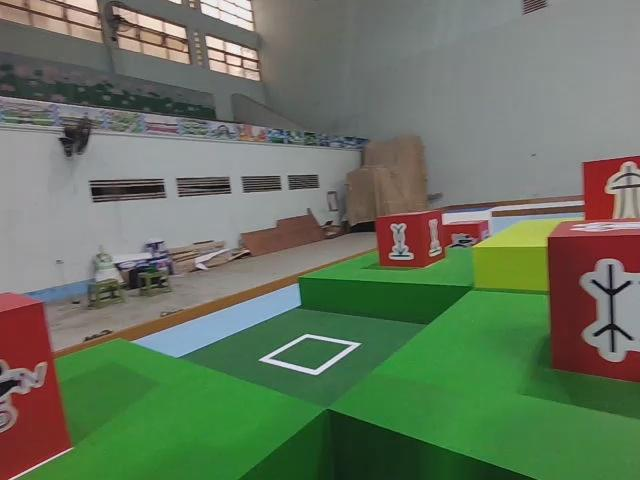R1: (439, 217, 491, 257)
R2 Fake: (581, 151, 640, 235)
R2 Real: (545, 217, 640, 387), (372, 207, 449, 270)
